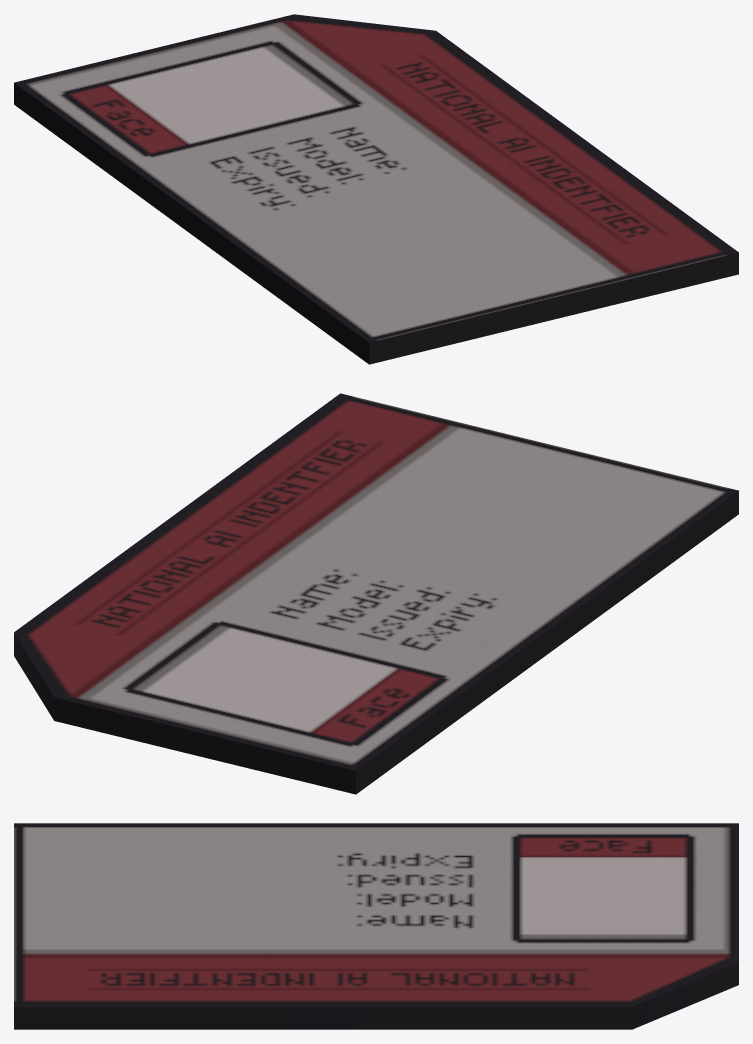
File: IDCard.fbx
The picture shows the model from 3 angles, top to bottom: view 1: azimuth 30°, elevation 25°; view 2: azimuth 150°, elevation 25°; view 3: azimuth 270°, elevation 25°; orthographic projection. The views are drawn at different scales.
Parts seen in each view (by area): view 1: pCube46; view 2: pCube46; view 3: pCube46.
Boxes of the visible parts, left/top/right/bottom form: pCube46: left=14, top=14, right=738, bottom=364; pCube46: left=14, top=393, right=738, bottom=794; pCube46: left=14, top=823, right=738, bottom=1029.
Bounding box in the file's own units: 29.96 × 1.7 × 49.86.
